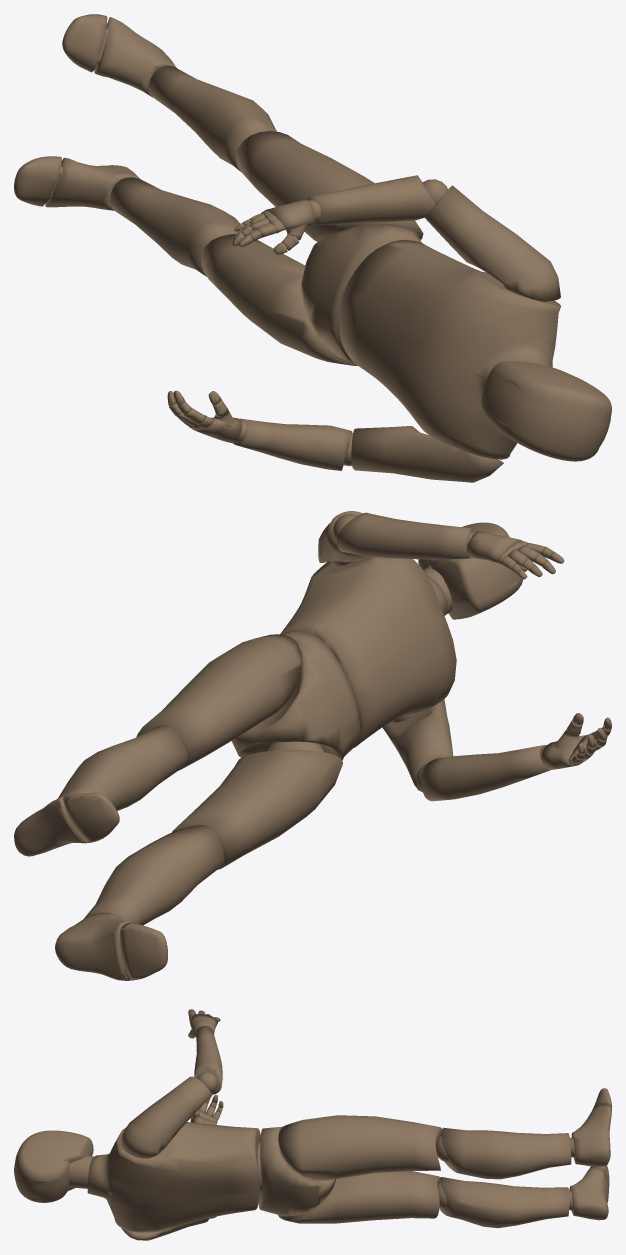
Rendered from base_character2.obj.
3 views of the same model, one above another, from view 1: azimuth 30°, elevation 25°; view 2: azimuth 150°, elevation 25°; view 3: azimuth 270°, elevation 25° (orthographic). The views are drawn at different scales.
Visible parts, largest first — view 1: mannequin.0005; view 2: mannequin.0005; view 3: mannequin.0005.
Boxes of the visible parts, left/top/right/bottom form: mannequin.0005: left=14, top=14, right=611, bottom=482; mannequin.0005: left=14, top=511, right=611, bottom=980; mannequin.0005: left=14, top=1009, right=611, bottom=1240.
Bounding box in the file's own units: 0.7337 × 0.5828 × 1.72.
